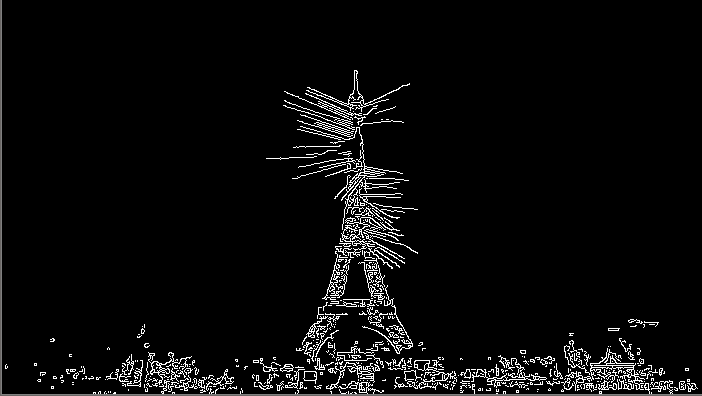eiffel tower: (275, 71, 419, 347)
